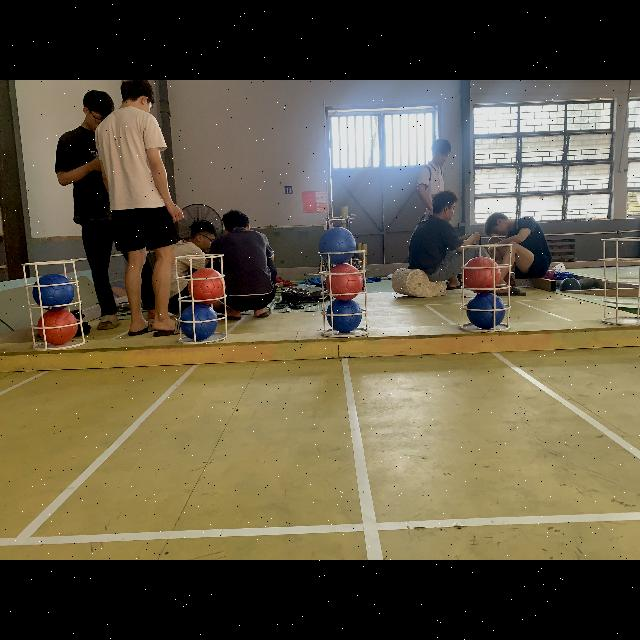B: (319, 227, 356, 266), (32, 274, 74, 308), (180, 307, 218, 341), (468, 296, 508, 328), (327, 301, 361, 333)
R: (186, 270, 228, 306), (38, 309, 78, 346), (464, 258, 502, 294), (326, 265, 364, 299)
